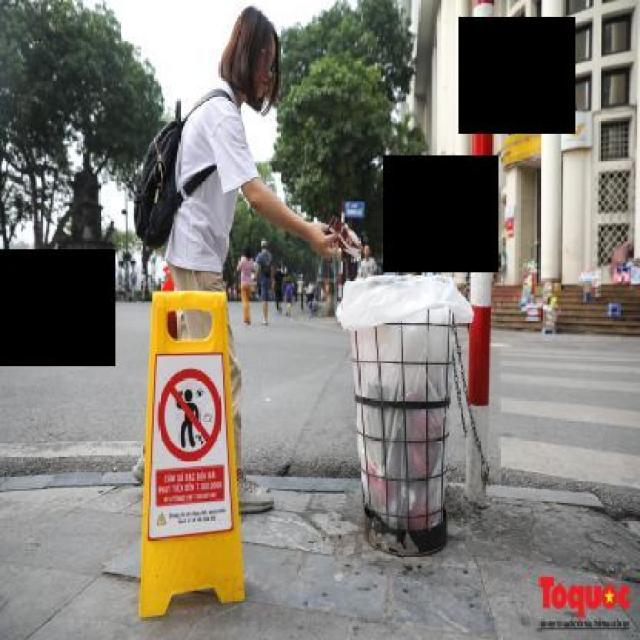plastic bag: (335, 256, 474, 550)
